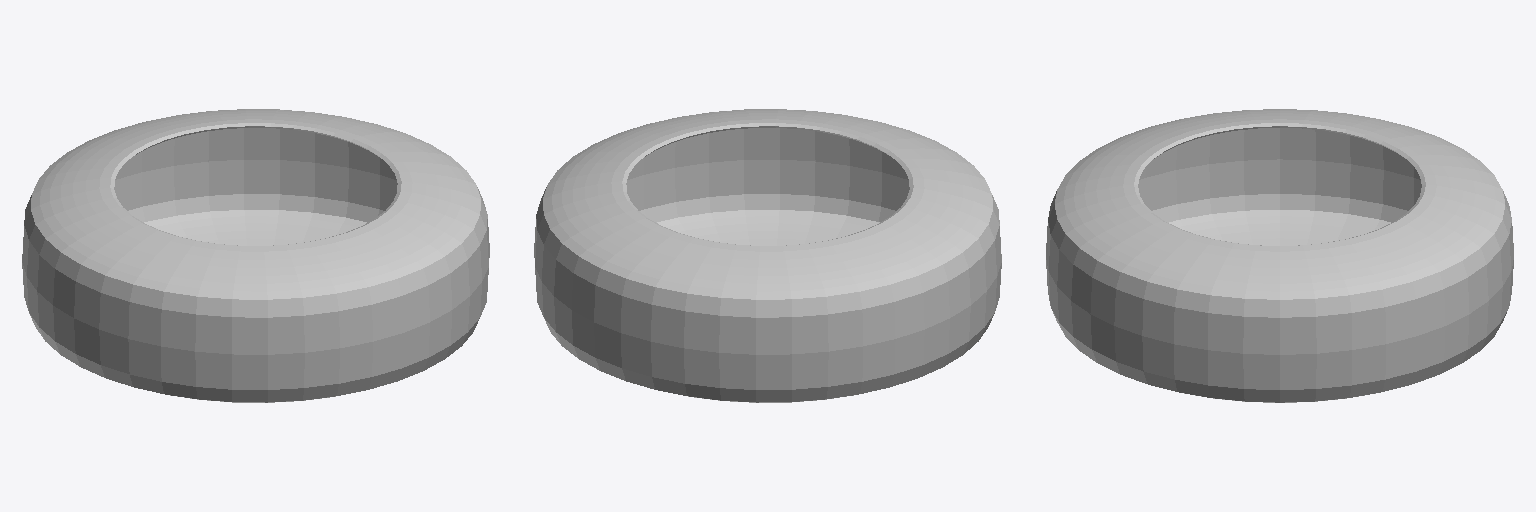
Rendered from Tyre.obj.
3 renders of one model, left to right at view 1: azimuth 30°, elevation 25°; view 2: azimuth 150°, elevation 25°; view 3: azimuth 270°, elevation 25°, orthographic.
Parts seen in each view (by area): view 1: Single_Tyre; view 2: Single_Tyre; view 3: Single_Tyre.
Part boxes in pixels (x1,y1,x2,y2): Single_Tyre: (22,109,489,402); Single_Tyre: (534,109,1001,402); Single_Tyre: (1046,109,1513,402).
Bounding box in the file's own units: 1.37 × 0.4616 × 1.37.